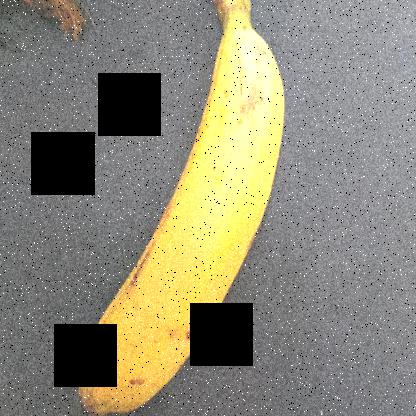ripe: (70, 18, 306, 415)
